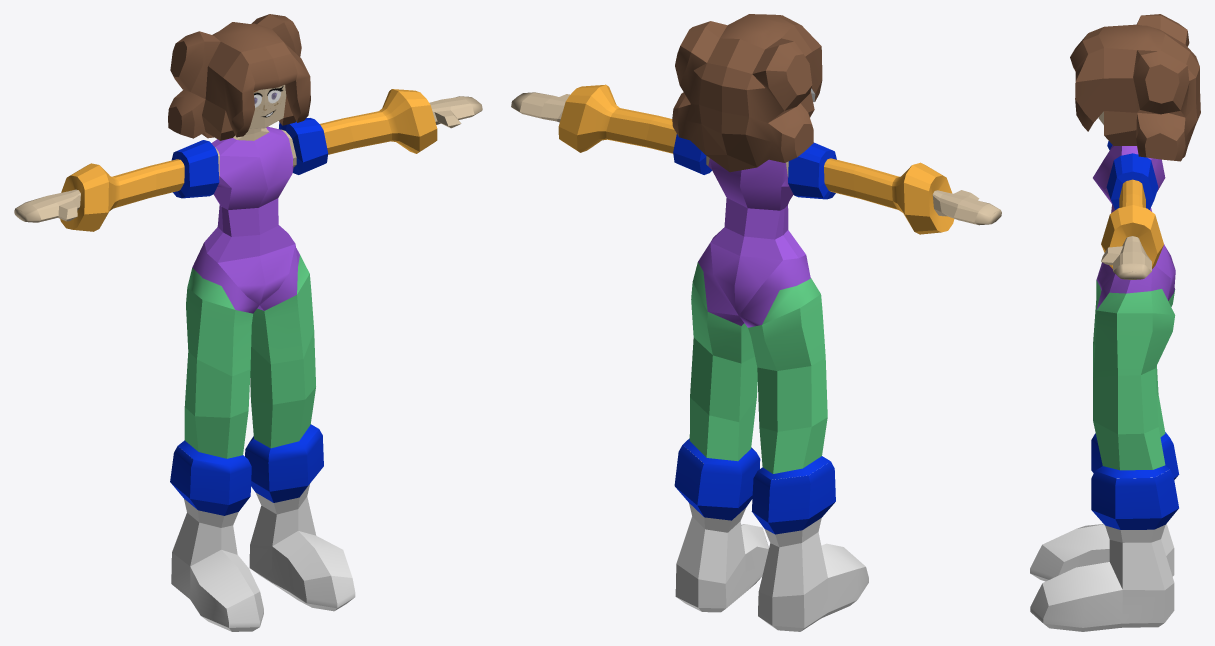
File: testdancer.fbx
3 renders of one model, left to right at view 1: azimuth 30°, elevation 25°; view 2: azimuth 150°, elevation 25°; view 3: azimuth 270°, elevation 25°, orthographic. The views are drawn at different scales.
Visible parts, largest first — view 1: pCube1; view 2: pCube1; view 3: pCube1.
Part boxes in pixels (x1,y1,x2,y2): pCube1: (14, 14, 482, 631); pCube1: (511, 14, 1001, 631); pCube1: (1030, 14, 1200, 631).
Size of the model in its own units: 15.81 by 18.43 by 5.02.
8 materials, 1 textured.
